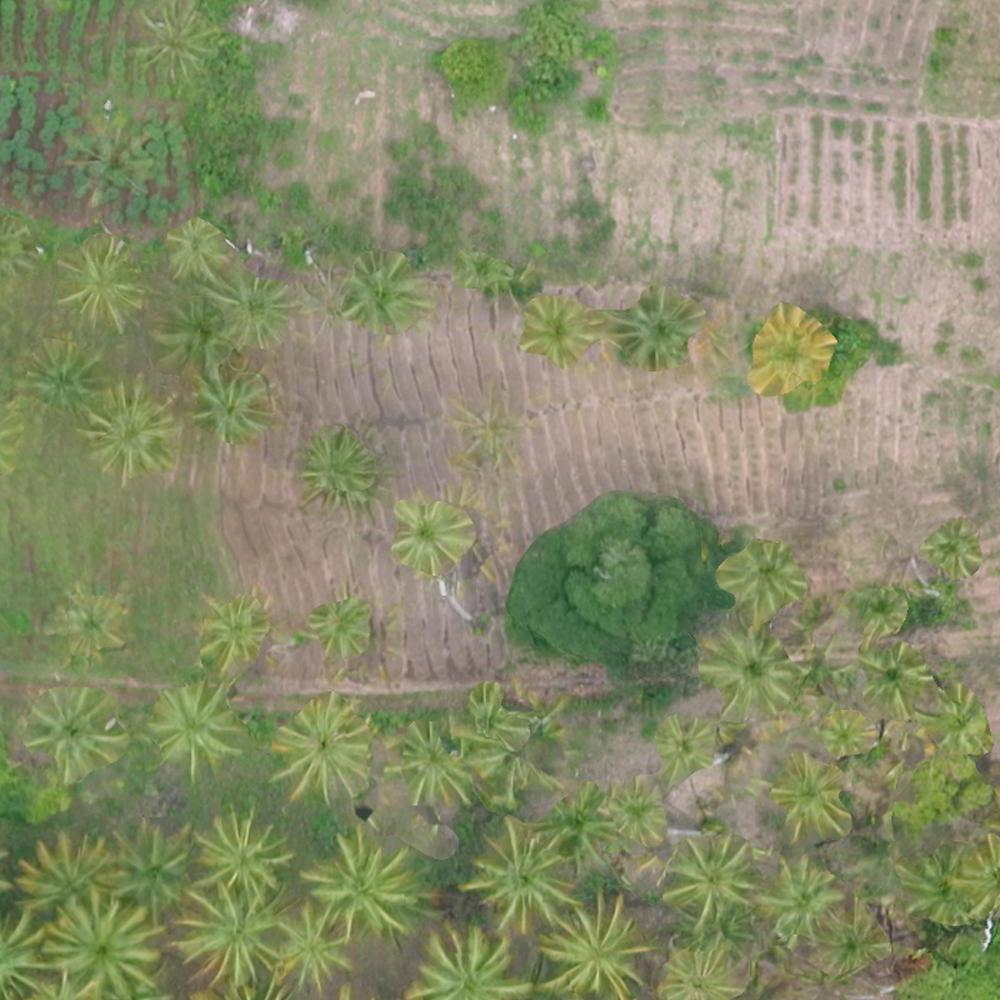Palm: (464, 818, 582, 926), (303, 831, 416, 935), (169, 883, 278, 990), (46, 890, 160, 992), (540, 895, 652, 998), (21, 683, 124, 778), (16, 835, 122, 925), (274, 698, 369, 798), (82, 381, 177, 480), (57, 235, 144, 333), (193, 811, 287, 899), (409, 927, 522, 1000), (704, 624, 794, 714), (744, 306, 837, 392), (665, 833, 753, 923), (109, 825, 198, 913), (607, 284, 696, 369), (152, 684, 241, 769), (20, 332, 109, 416), (393, 719, 477, 808), (182, 363, 272, 446), (757, 854, 840, 942), (132, 5, 225, 83), (537, 786, 626, 867), (205, 268, 293, 349), (341, 250, 430, 328), (721, 542, 805, 624), (769, 755, 853, 836), (299, 430, 378, 509), (271, 906, 350, 983), (517, 289, 594, 363), (394, 496, 467, 571), (51, 588, 126, 660), (854, 641, 931, 709), (657, 938, 741, 1000), (604, 776, 672, 847), (161, 218, 234, 281), (198, 594, 266, 659), (305, 594, 369, 658), (653, 716, 711, 775), (818, 707, 877, 759)
